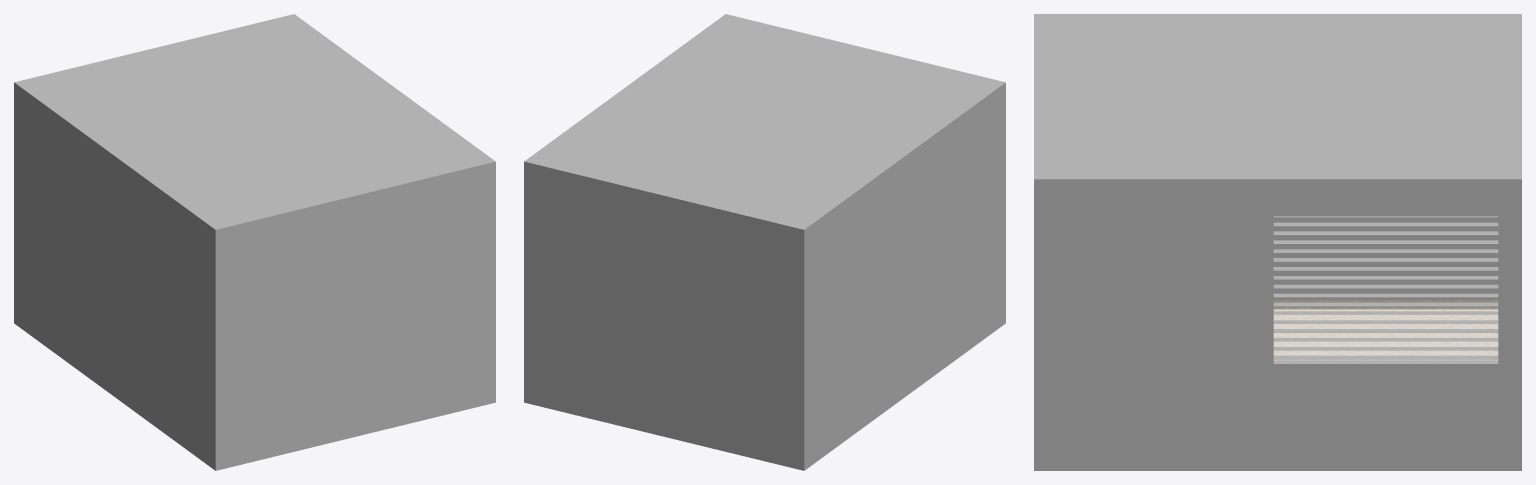
Rendered from room.gltf.
3 renders of one model, left to right at view 1: azimuth 30°, elevation 25°; view 2: azimuth 150°, elevation 25°; view 3: azimuth 270°, elevation 25°, orthographic. The views are drawn at different scales.
Parts seen in each view (by area): view 1: breakfast_room_Wall_South, breakfast_room_Wall_West, breakfast_room_Ceiling, breakfast_room_Wall_East, breakfast_room_Wall_North; view 2: breakfast_room_Wall_North, breakfast_room_Wall_West, breakfast_room_Ceiling, breakfast_room_Wall_East, breakfast_room_Wall_South; view 3: breakfast_room_Wall_East, breakfast_room_Ceiling, Blinds_breakfast_room, breakfast_room_Wall_West, breakfast_room_Floor, breakfast_room_Wall_North, breakfast_room_Wall_South.
Boxes of the visible parts, left/top/right/bottom form: breakfast_room_Wall_South: left=219, top=160, right=489, bottom=469; breakfast_room_Wall_West: left=14, top=81, right=221, bottom=470; breakfast_room_Ceiling: left=24, top=18, right=485, bottom=225; breakfast_room_Wall_East: left=288, top=14, right=495, bottom=403; breakfast_room_Wall_North: left=20, top=15, right=291, bottom=83; breakfast_room_Wall_North: left=530, top=160, right=800, bottom=469; breakfast_room_Wall_West: left=798, top=81, right=1005, bottom=470; breakfast_room_Ceiling: left=534, top=18, right=995, bottom=225; breakfast_room_Wall_East: left=524, top=14, right=731, bottom=403; breakfast_room_Wall_South: left=728, top=15, right=999, bottom=83; breakfast_room_Wall_East: left=1034, top=175, right=1521, bottom=470; breakfast_room_Ceiling: left=1043, top=17, right=1512, bottom=175; Blinds_breakfast_room: left=1273, top=216, right=1498, bottom=359; breakfast_room_Wall_West: left=1034, top=14, right=1521, bottom=309; breakfast_room_Floor: left=1274, top=300, right=1497, bottom=355; breakfast_room_Wall_North: left=1513, top=17, right=1521, bottom=175; breakfast_room_Wall_South: left=1034, top=17, right=1042, bottom=175.
Size of the model in its own units: 11.98 by 9.85 by 14.93.
